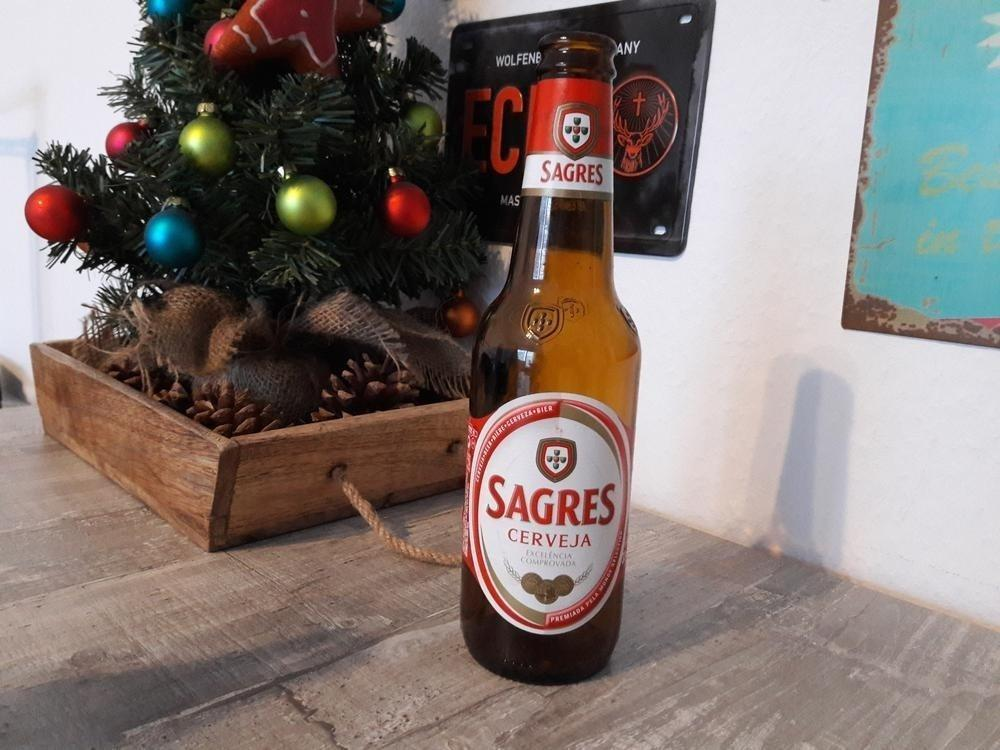bottle-glass: (457, 27, 642, 688)
